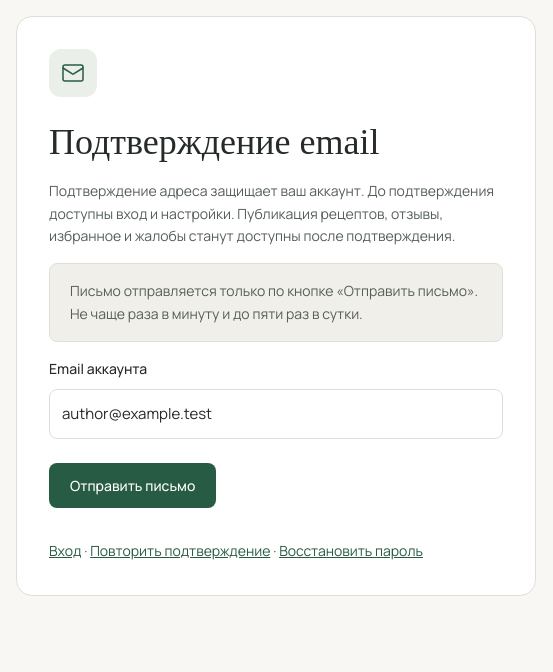
доступна явная отправка, даже если sessionStorage запрещён браузером
Click the button "Отправить письмо" at (133, 485), box [49,462,216,508]
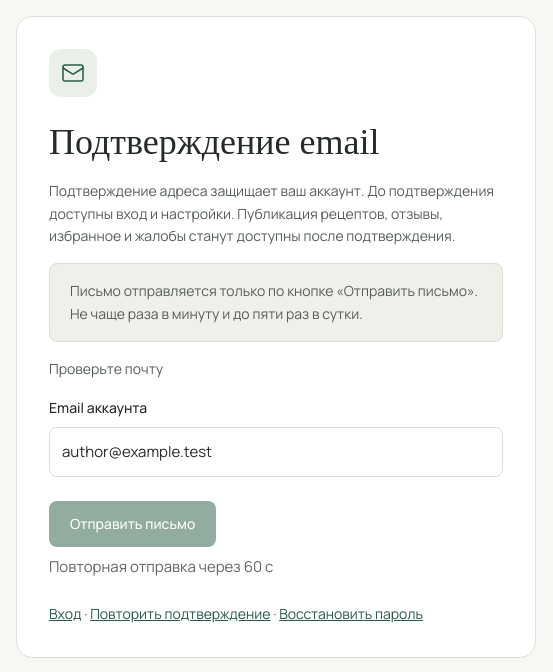
Result: the message reads "Проверьте почту" at [49,359,163,378]
Result: the button "Отправить письмо" is disabled at [49,501,216,546]
